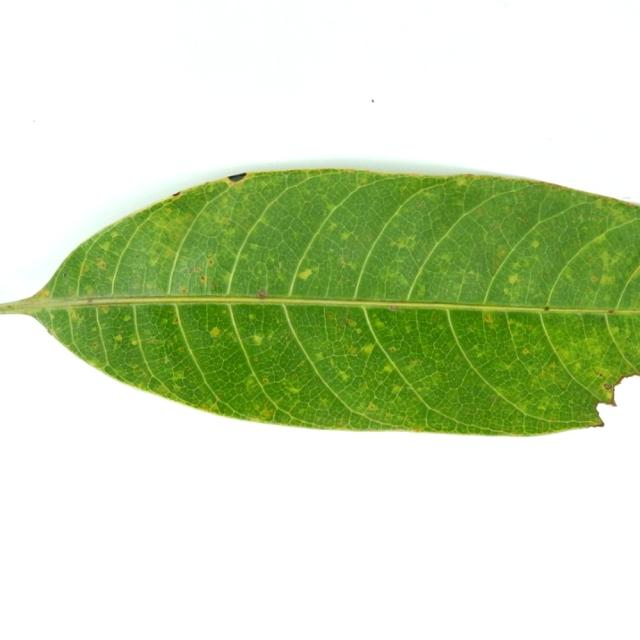Mango: (0, 169, 639, 435)
Powdery_Mildew: (405, 369, 454, 401), (460, 269, 483, 291), (600, 381, 617, 405), (295, 266, 318, 282), (539, 365, 560, 380), (392, 236, 415, 249), (217, 268, 234, 284), (588, 412, 606, 427), (203, 183, 221, 196), (338, 256, 355, 269), (483, 314, 498, 328), (227, 173, 247, 183), (395, 273, 409, 287), (599, 274, 615, 286), (592, 235, 608, 246), (361, 343, 375, 355), (162, 246, 176, 258), (557, 349, 572, 360), (2, 302, 18, 312), (69, 309, 81, 321), (209, 327, 222, 338), (339, 231, 353, 241), (507, 274, 519, 285), (337, 371, 349, 382), (415, 285, 426, 297), (96, 258, 107, 270), (346, 345, 358, 356), (496, 248, 508, 259), (251, 335, 264, 345), (325, 201, 338, 211), (212, 214, 224, 224), (99, 241, 111, 251), (171, 372, 184, 381), (439, 252, 452, 261), (374, 319, 385, 329), (208, 402, 219, 412), (246, 379, 256, 390), (224, 226, 235, 236), (472, 345, 483, 355), (455, 178, 467, 187), (325, 312, 337, 321), (549, 418, 574, 422), (610, 327, 621, 336), (328, 221, 339, 230), (489, 393, 500, 402), (262, 409, 272, 418), (80, 264, 89, 274), (149, 257, 159, 266), (257, 290, 267, 299), (46, 326, 56, 335), (383, 365, 394, 373), (346, 319, 357, 327), (123, 213, 135, 220), (628, 266, 637, 275), (392, 385, 402, 393), (367, 403, 377, 411), (319, 398, 329, 406), (625, 201, 638, 207), (248, 243, 259, 250), (170, 191, 181, 198), (531, 240, 540, 248), (253, 402, 261, 411), (90, 359, 99, 367), (404, 324, 412, 333), (100, 305, 109, 313), (538, 403, 547, 411), (358, 178, 367, 186), (410, 359, 420, 366), (464, 173, 477, 178), (86, 286, 94, 294), (210, 283, 217, 292), (110, 232, 119, 239), (590, 275, 599, 282), (521, 348, 530, 355), (146, 282, 155, 289), (114, 334, 122, 341), (291, 387, 299, 394), (193, 267, 201, 274), (42, 290, 50, 297), (316, 352, 324, 359), (123, 314, 131, 321), (248, 313, 256, 320), (267, 257, 275, 264), (547, 362, 555, 369), (385, 413, 393, 420), (414, 426, 423, 432), (388, 305, 397, 311), (263, 376, 270, 383), (199, 275, 206, 282), (172, 317, 179, 324), (208, 259, 215, 266), (354, 328, 362, 334), (179, 288, 187, 294), (543, 306, 551, 312), (131, 283, 139, 289), (86, 297, 94, 303), (607, 309, 616, 314), (131, 339, 138, 345), (161, 319, 168, 325), (389, 346, 396, 352), (92, 342, 99, 348), (575, 312, 583, 317), (164, 357, 170, 363), (253, 356, 259, 362), (63, 272, 69, 278), (91, 327, 98, 332), (178, 347, 184, 352), (635, 307, 640, 312), (624, 197, 631, 200), (222, 310, 227, 314), (598, 373, 603, 377), (130, 302, 135, 306)
